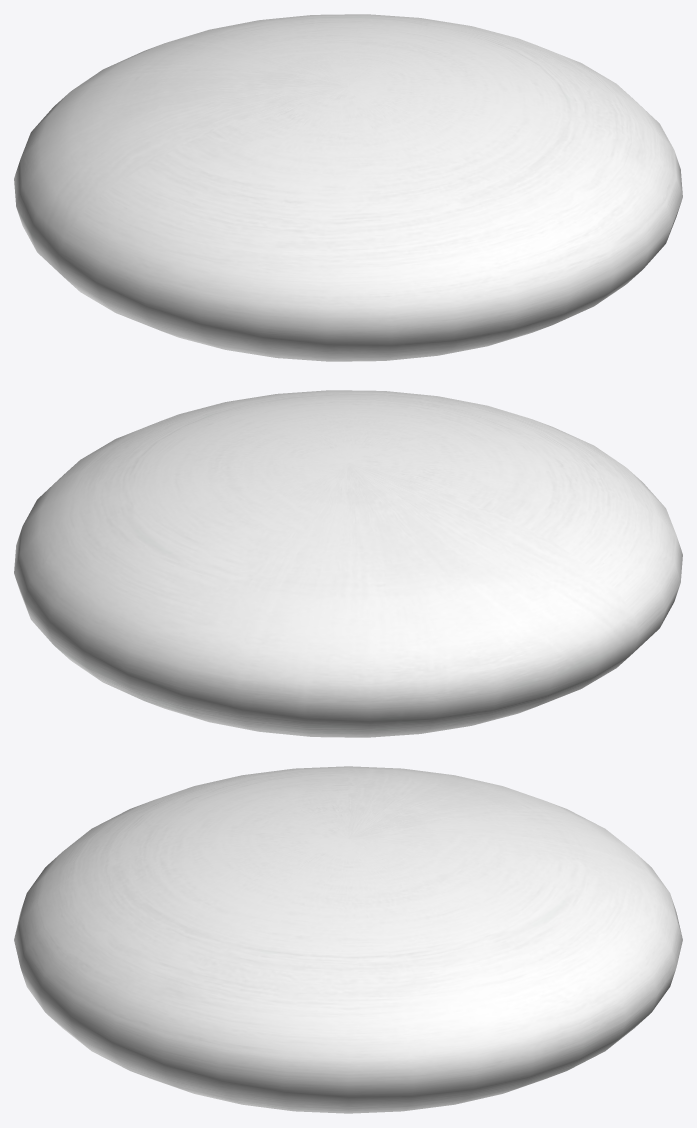
Rendered from PlayerFoot.fbx.
3 renders of one model, top to bottom at view 1: azimuth 30°, elevation 25°; view 2: azimuth 150°, elevation 25°; view 3: azimuth 270°, elevation 25°, orthographic.
Parts seen in each view (by area): view 1: 球; view 2: 球; view 3: 球.
Boxes of the visible parts, bbox=[...] form: 球: bbox=[14, 14, 682, 361]; 球: bbox=[14, 390, 682, 737]; 球: bbox=[14, 766, 682, 1113].
Size of the model in its own units: 0.6 by 0.2 by 0.6.
Materials: 1 (1 with a texture image).
